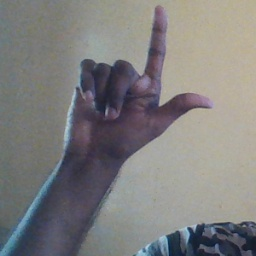L: (59, 4, 215, 157)
